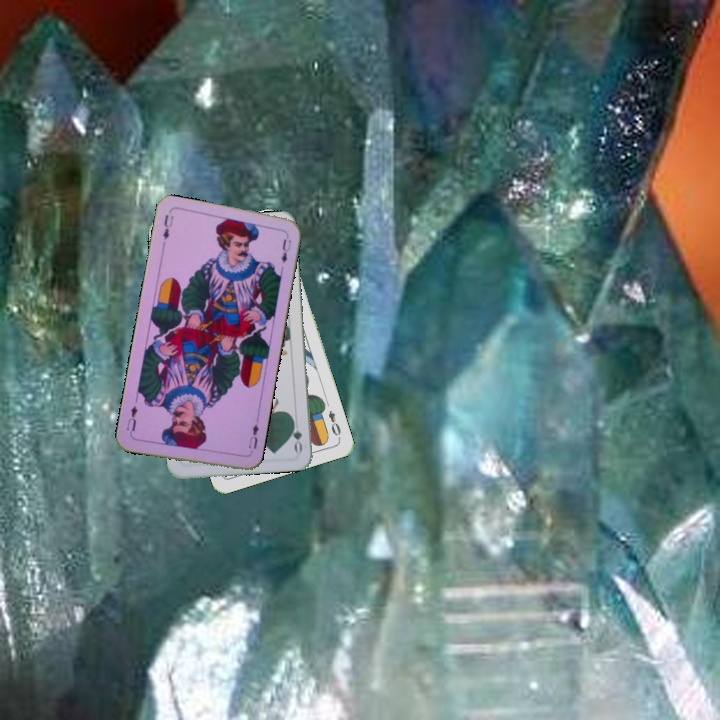EO: (324, 406, 343, 441)
EU: (244, 420, 261, 457), (159, 211, 176, 242)
GO: (288, 414, 305, 454)
